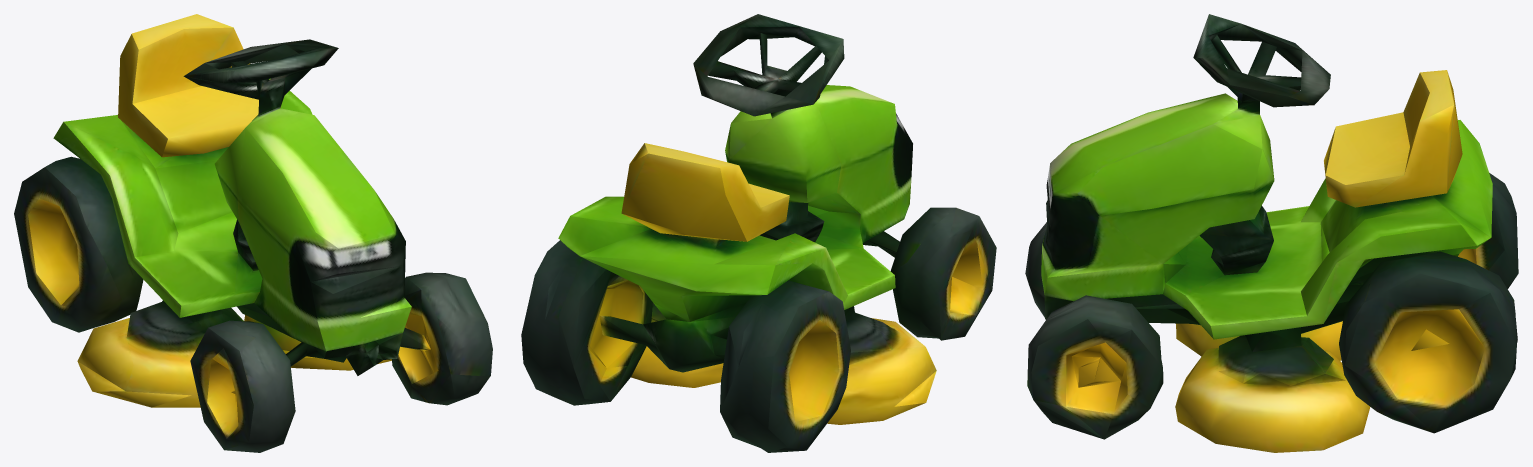
The model's file is lawnMower.glb.
3 renders of one model, left to right at view 1: azimuth 30°, elevation 25°; view 2: azimuth 150°, elevation 25°; view 3: azimuth 270°, elevation 25°, orthographic. The views are drawn at different scales.
Visible parts, largest first — view 1: model; view 2: model; view 3: model.
Part boxes in pixels (x1,y1,x2,y2): model: [14, 14, 492, 452]; model: [521, 14, 996, 452]; model: [1025, 14, 1518, 452].
Size of the model in its own units: 1.52 by 1.45 by 1.9.
Materials: 1 (1 with a texture image).
